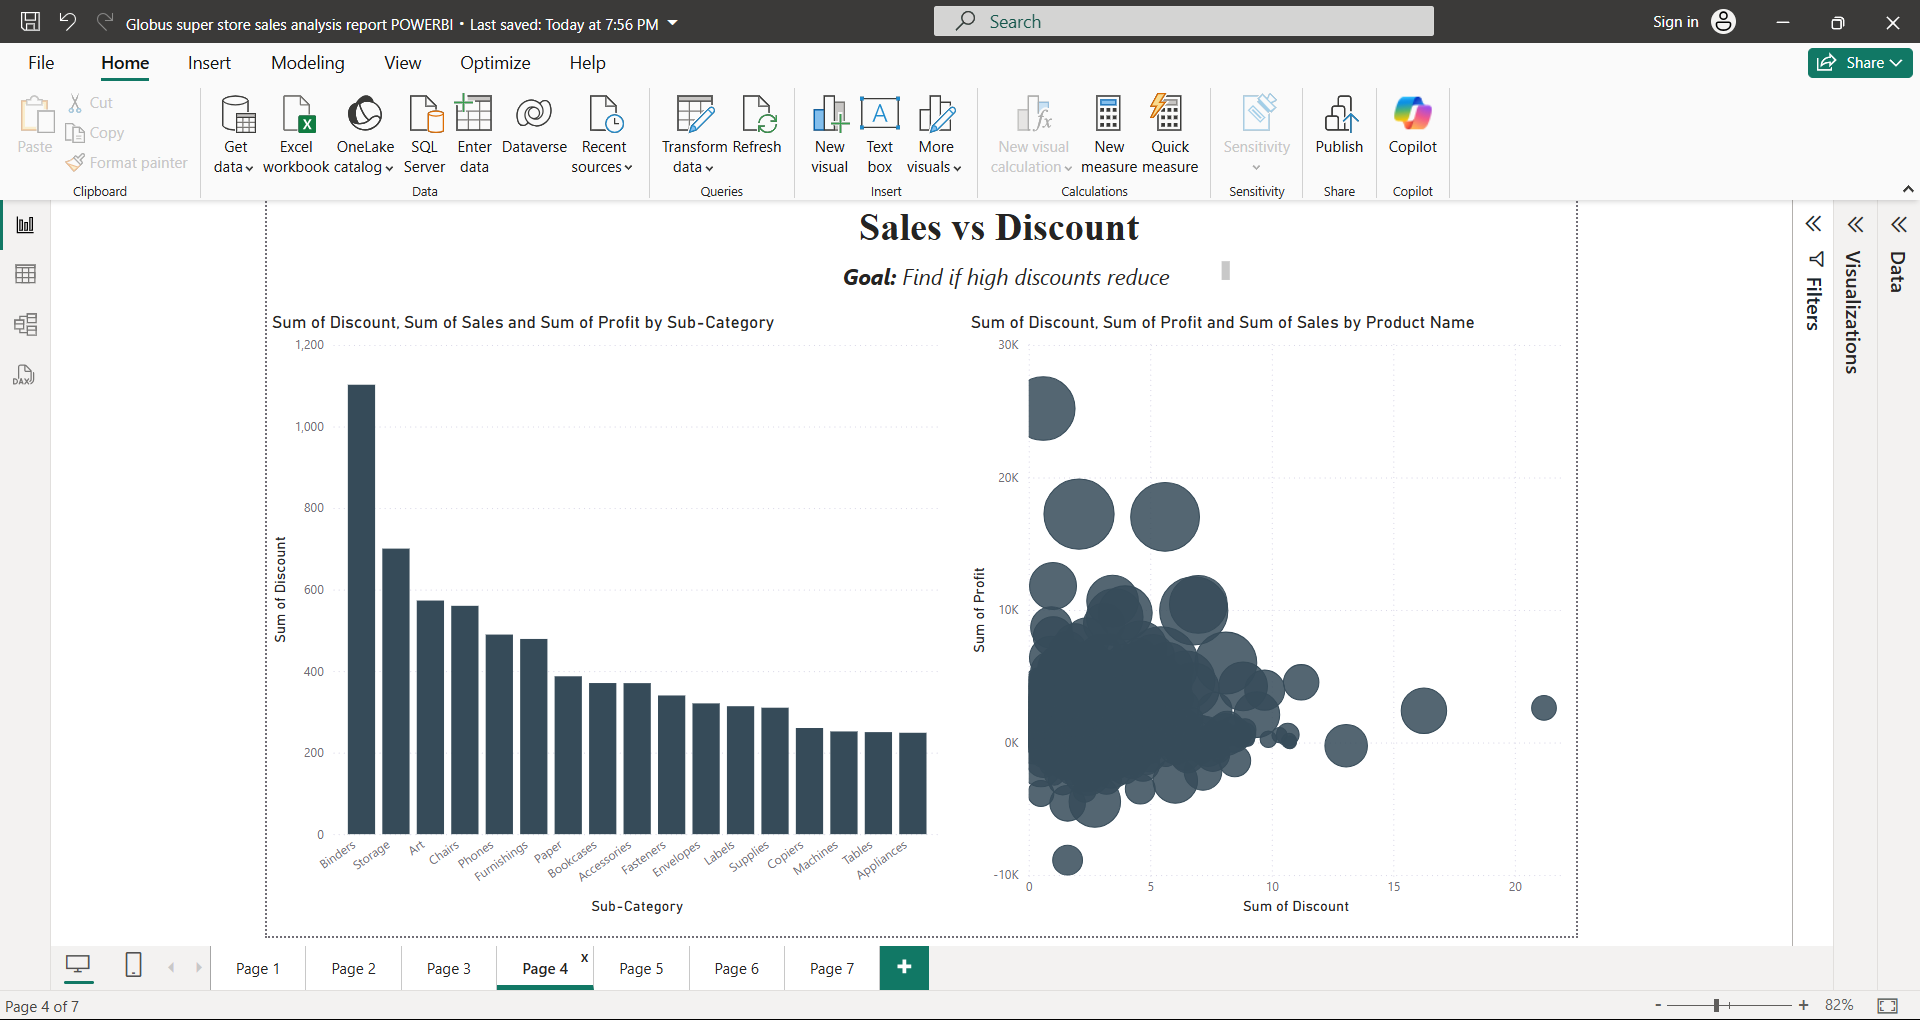

Layout of this report page (visuals, bound fields, positions):
{"tool":"powerbi","page":{"name":"Page 4","canvas":[1280,720],"ordinal":3},"visuals":[{"type":"clusteredColumnChart","fields":{"Category":["Sheet1.Sub-Category"],"Y":["Sum(Sheet1.Discount)"]},"box":[0,108.4,664.2,595.5],"z":0},{"type":"textbox","box":[473.4,0,485.8,71.4],"z":1},{"type":"textbox","box":[507.7,54.9,439.1,42.5],"z":2},{"type":"scatterChart","fields":{"X":["Sum(Sheet1.Discount)"],"Category":["Sheet1.Product Name"],"Y":["Sum(Sheet1.Profit)"],"Size":["Sum(Sheet1.Sales)"]},"box":[683.4,108.4,596.9,595.5],"z":3}]}

Visuals, with their boxes on the page's 1280x720 design canvas (x1, y1, x2, y2). These are canvas units, not pixel positions in the 1920x1020 screenshot, which may show the page scaled, cropped or inside an application window:
clusteredColumnChart - Sheet1.Sub-Category x Sum(Sheet1.Discount): crop(0, 108, 664, 704)
textbox: crop(473, 0, 959, 71)
textbox: crop(508, 55, 947, 97)
scatterChart - Sum(Sheet1.Discount) x Sheet1.Product Name: crop(683, 108, 1280, 704)
